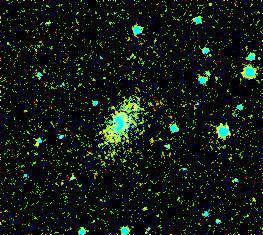star: (16, 125, 46, 155)
